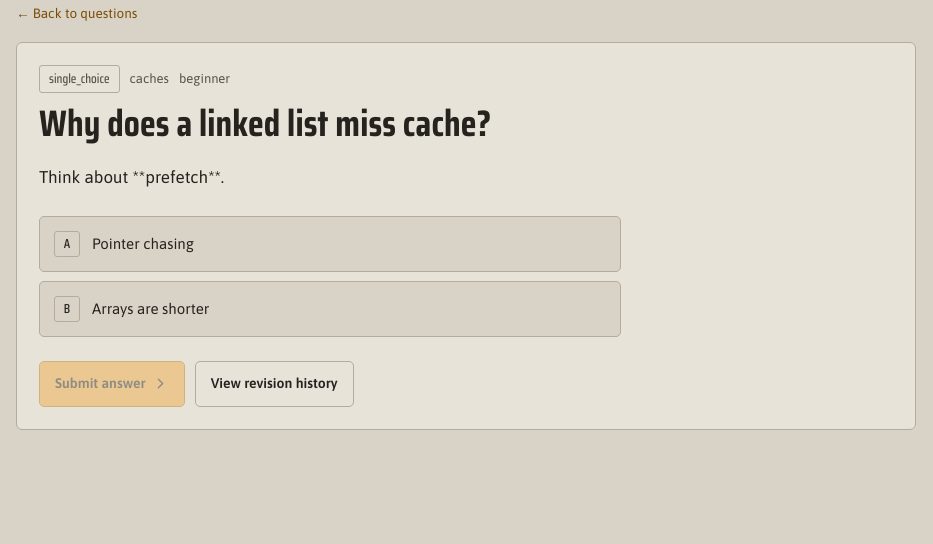
Test: QuestionDetailPage › submits a single choice as a string and shows the verdict
This screenshot has width=933, height=544.
Click the button "A Pointer chasing".
click(143, 244)  # box [39,216,621,272]
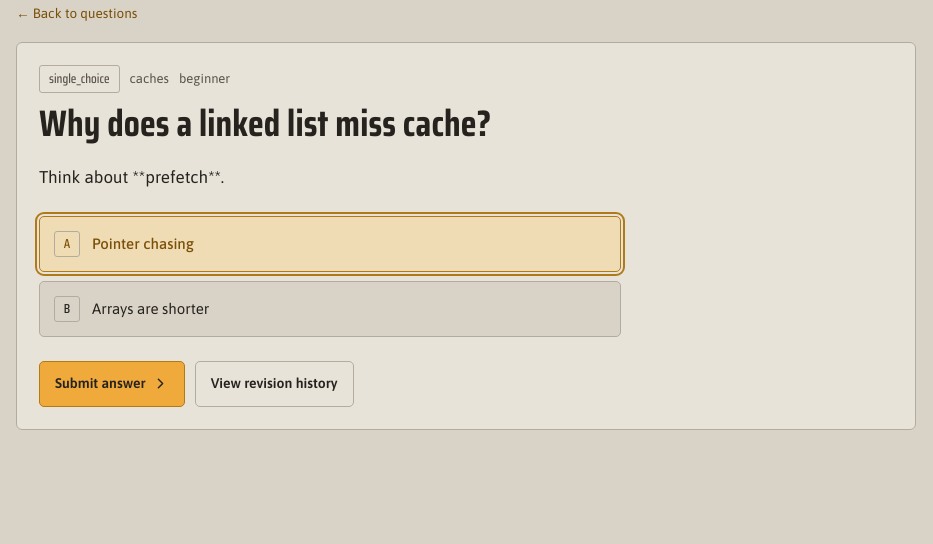
Click the button "Submit answer".
click(112, 384)  # box [39,361,185,407]
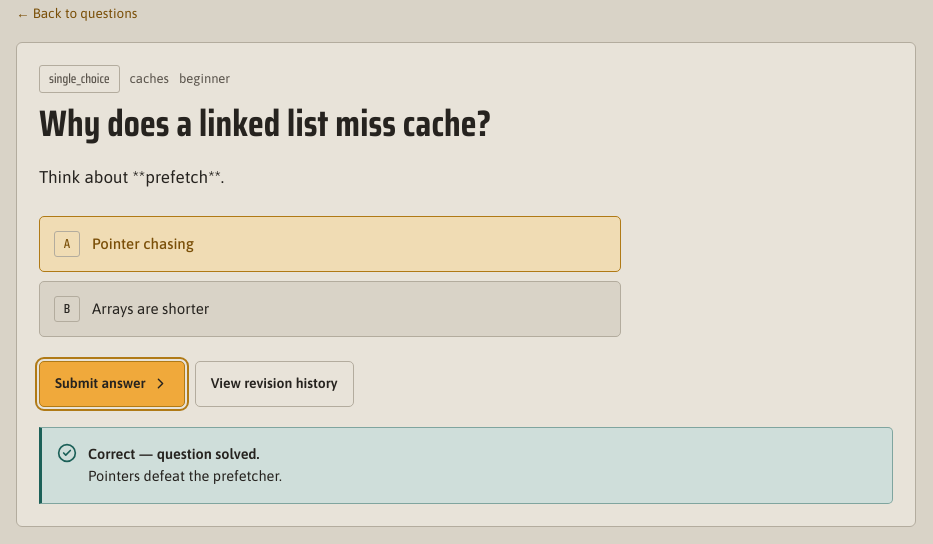
Result: the text "Correct — question solved." is shown at [88,445,259,462]
Result: the text "Pointers defeat the prefetcher." is shown at [88,465,282,488]
